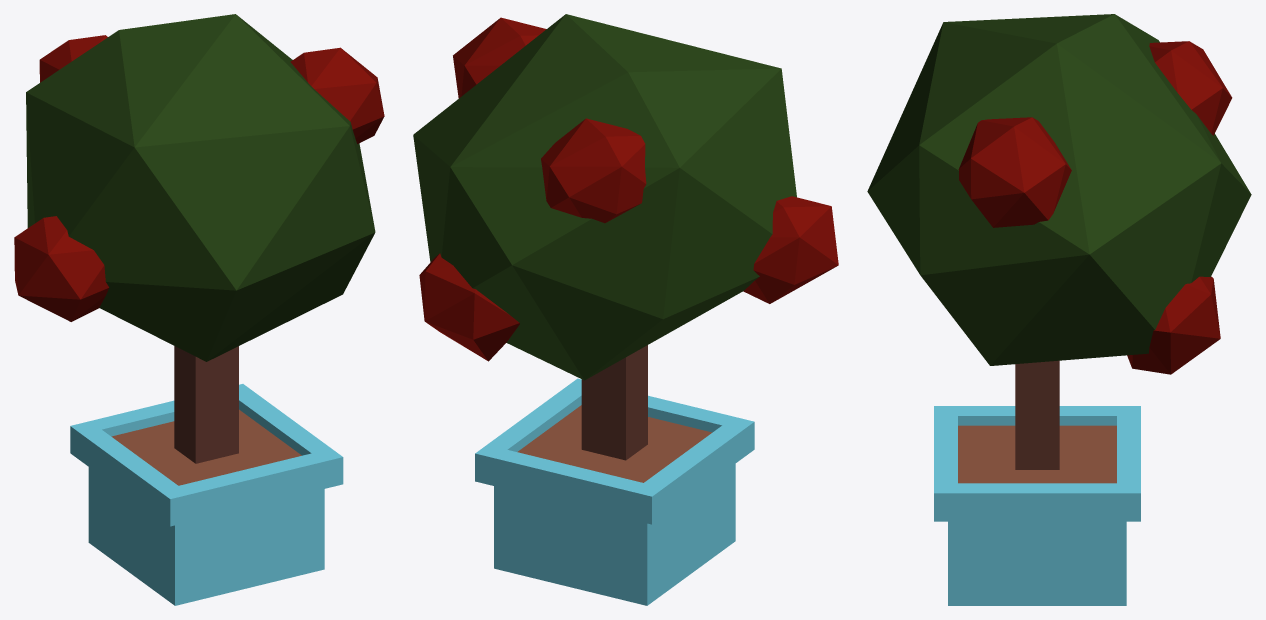
The picture shows the model from 3 angles, left to right: view 1: azimuth 30°, elevation 25°; view 2: azimuth 150°, elevation 25°; view 3: azimuth 270°, elevation 25°; orthographic projection. The views are drawn at different scales.
Parts seen in each view (by area): view 1: Plane.007; view 2: Plane.007; view 3: Plane.007.
Boxes of the visible parts, x1,y1,x2,y2 form: Plane.007: (14,14,384,605); Plane.007: (413,14,838,605); Plane.007: (867,14,1251,605).
Size of the model in its own units: 370 by 496 by 317.
